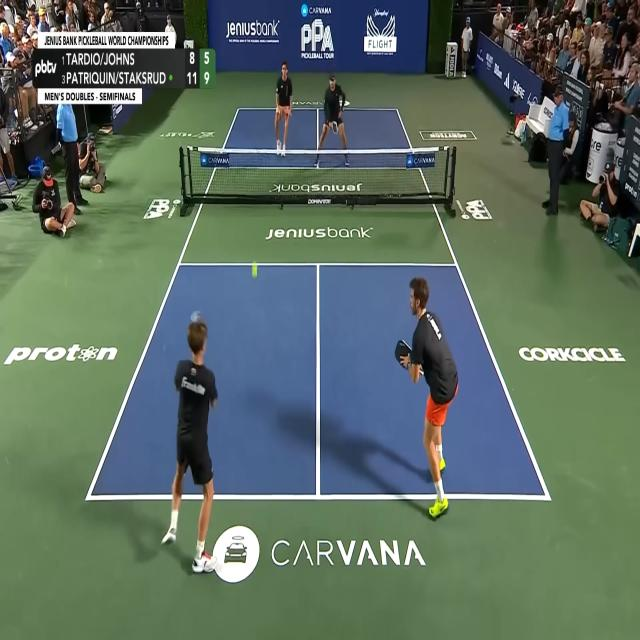ball: (252, 260, 258, 278)
